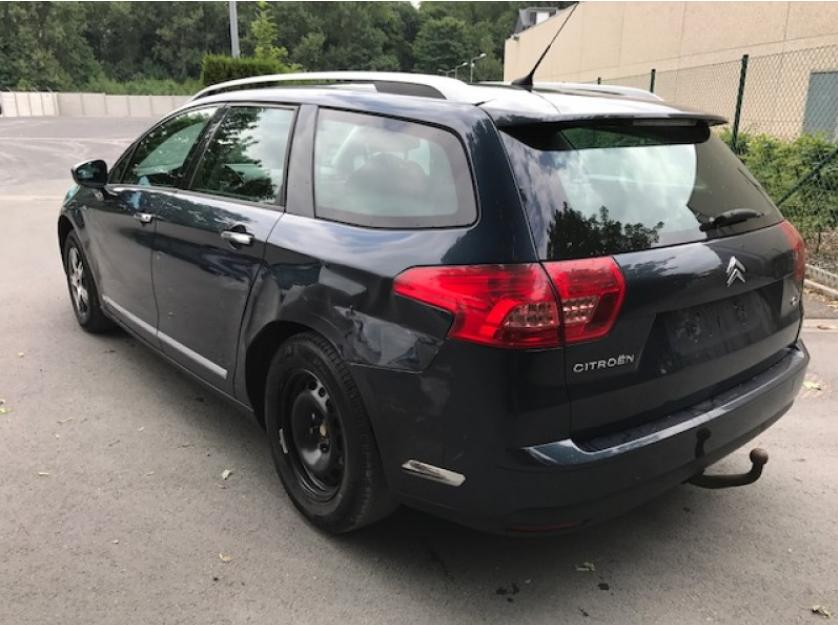Back-bumper: (347, 318, 811, 537)
Back-door: (154, 102, 301, 396)
Back-wheel: (264, 333, 396, 534)
Back-window: (314, 106, 477, 229), (188, 107, 294, 206)
Back-windshield: (498, 118, 786, 262)
Fender: (60, 184, 104, 307)
Front-door: (89, 103, 228, 346), (64, 230, 116, 335)
Front-window: (109, 106, 224, 188)
Mirror: (71, 158, 116, 200)
Quarter-panel: (234, 214, 540, 409)
Rocker-panel: (101, 306, 255, 418)
Roof: (188, 72, 725, 126)
Tail-light: (393, 262, 564, 351), (541, 256, 626, 347), (779, 218, 805, 279)
Trunk: (495, 118, 805, 441)
